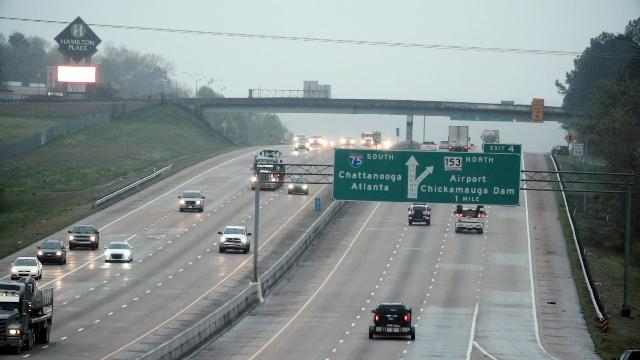car: (371, 303, 418, 342), (217, 227, 253, 256), (68, 223, 99, 249), (11, 257, 43, 281), (40, 238, 67, 266), (106, 243, 136, 264), (407, 202, 433, 226), (178, 190, 206, 212), (288, 176, 309, 196), (294, 138, 310, 151), (309, 135, 326, 147), (420, 140, 436, 151), (341, 136, 356, 147), (555, 145, 569, 155), (438, 140, 450, 150)
pickup-truck: (454, 204, 487, 235)
truck: (1, 274, 55, 354), (253, 157, 285, 189), (447, 125, 469, 152), (481, 129, 499, 150), (361, 131, 380, 147)
